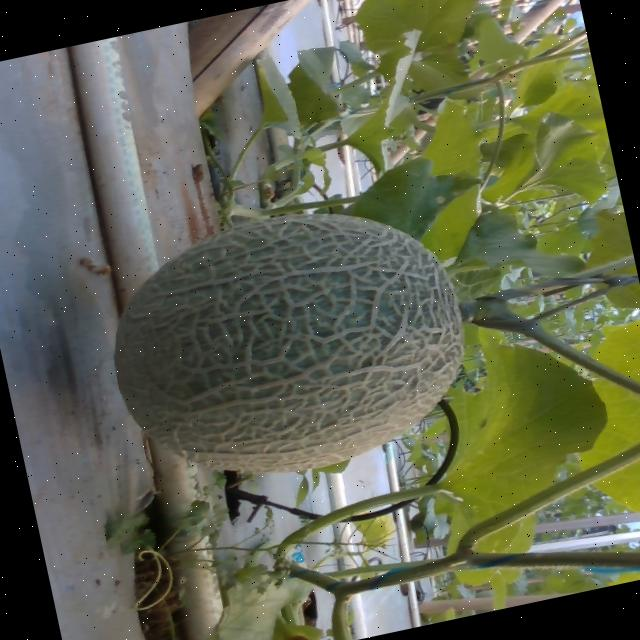melon: (114, 214, 462, 473)
